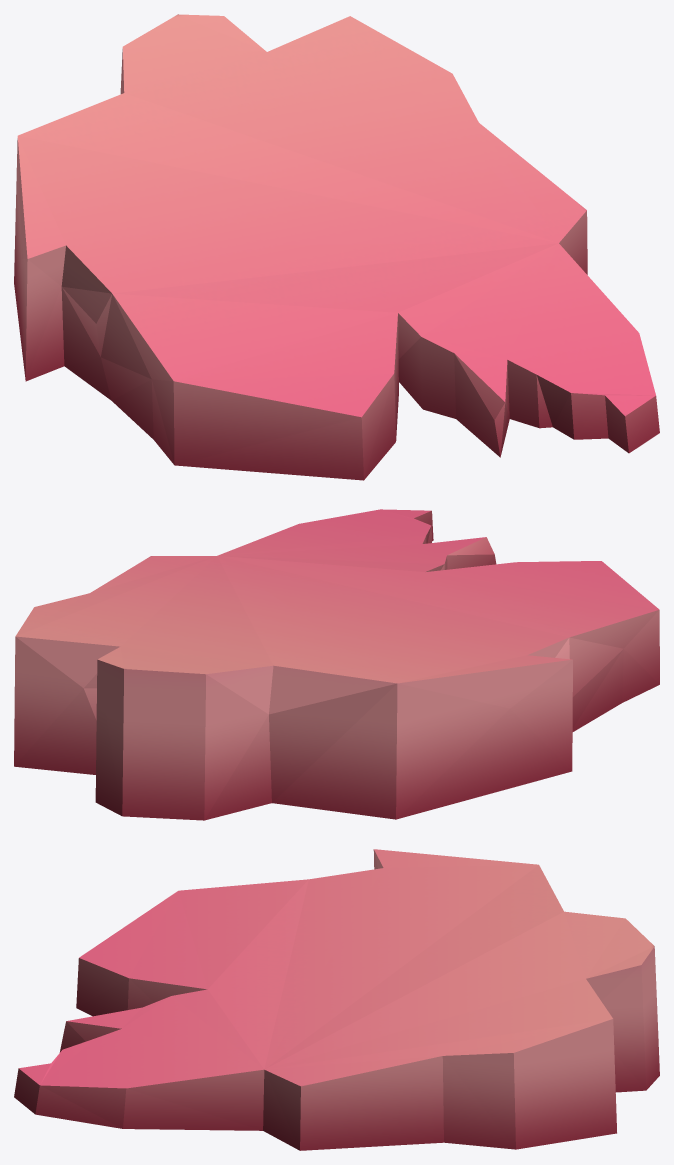
File: Sunset_Ground_005.FBX
3 renders of one model, top to bottom at view 1: azimuth 30°, elevation 25°; view 2: azimuth 150°, elevation 25°; view 3: azimuth 270°, elevation 25°, orthographic. The views are drawn at different scales.
Visible parts, largest first — view 1: Sunset_Ground_005; view 2: Sunset_Ground_005; view 3: Sunset_Ground_005.
Part boxes in pixels (x1,y1,x2,y2): Sunset_Ground_005: [14, 14, 659, 480]; Sunset_Ground_005: [14, 509, 659, 820]; Sunset_Ground_005: [14, 849, 659, 1150].
Bounding box in the file's own units: 916 × 274 × 1234.
1 material, 1 textured.
